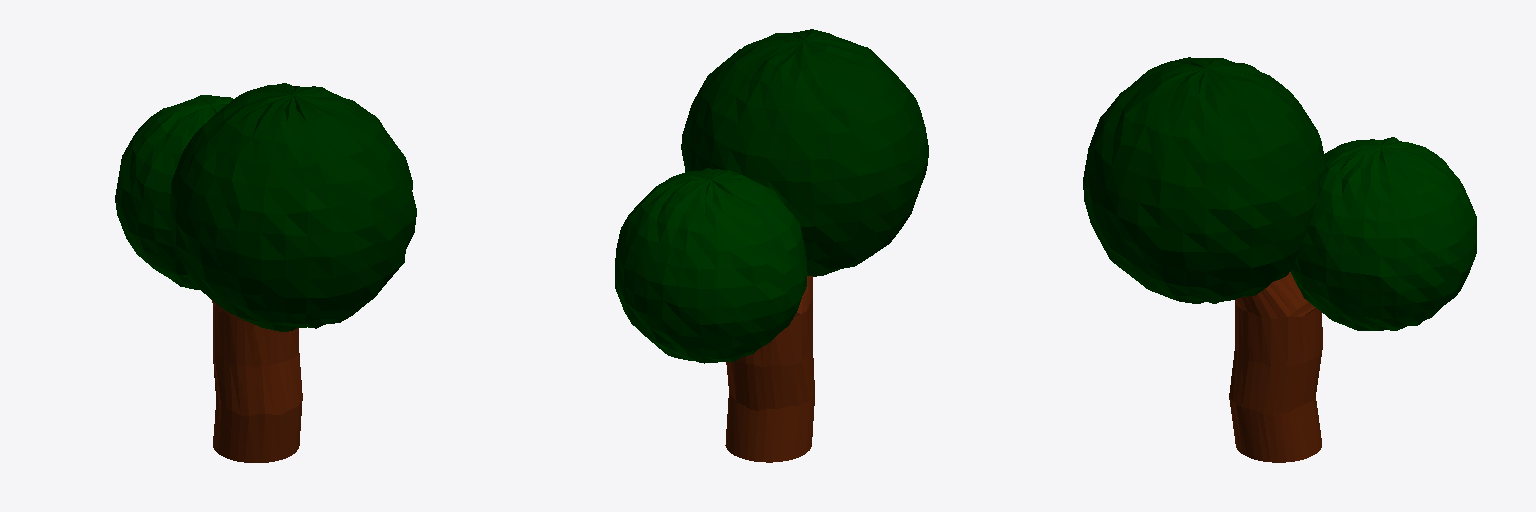
The model's file is tree.obj.
3 renders of one model, left to right at view 1: azimuth 30°, elevation 25°; view 2: azimuth 150°, elevation 25°; view 3: azimuth 270°, elevation 25°, orthographic.
Visible parts, largest first — view 1: Sphere, Cylinder, Sphere.002; view 2: Sphere, Sphere.002, Cylinder; view 3: Sphere, Sphere.002, Cylinder.
Part boxes in pixels (left/top/right/bottom): Sphere: left=169, top=83, right=416, bottom=331; Cylinder: left=211, top=299, right=302, bottom=462; Sphere.002: left=115, top=95, right=233, bottom=289; Sphere: left=681, top=29, right=928, bottom=276; Sphere.002: left=615, top=168, right=807, bottom=363; Cylinder: left=725, top=276, right=814, bottom=462; Sphere: left=1083, top=57, right=1325, bottom=303; Sphere.002: left=1290, top=137, right=1476, bottom=330; Cylinder: left=1229, top=272, right=1322, bottom=462.
Bounding box in the file's own units: 5.69 × 9.59 × 9.09.